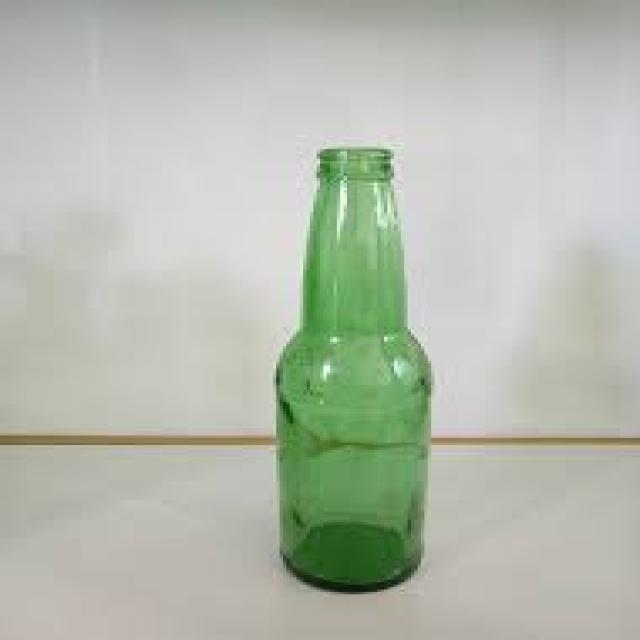glass: (273, 147, 428, 589)
